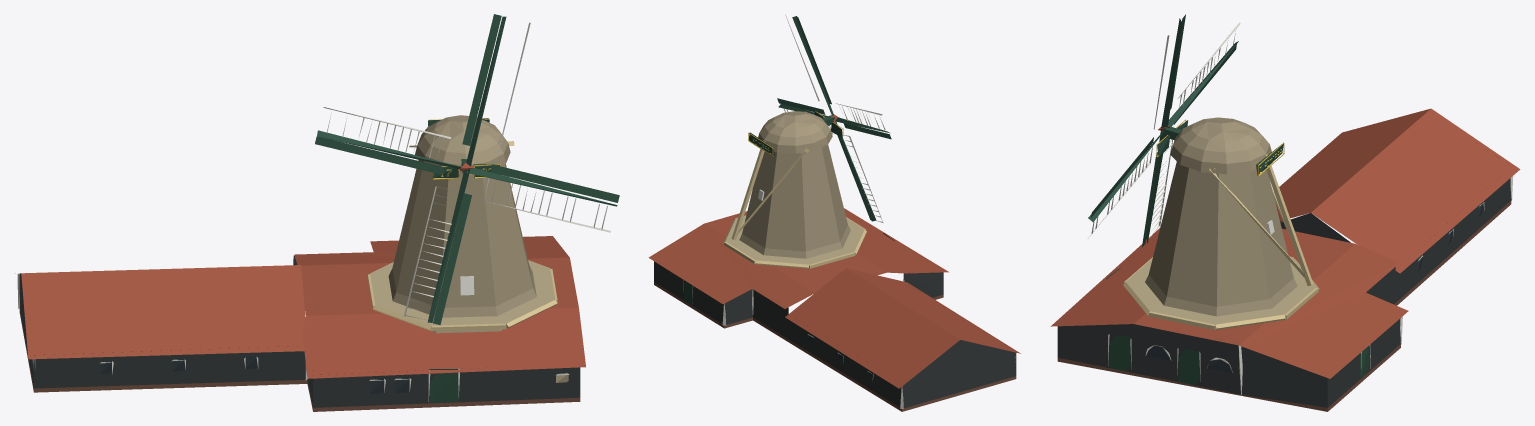
File: d-admiraal.lod1.glb
3 renders of one model, left to right at view 1: azimuth 30°, elevation 25°; view 2: azimuth 150°, elevation 25°; view 3: azimuth 270°, elevation 25°, orthographic. The views are drawn at different scales.
Parts seen in each view (by area): view 1: d-admiraal; view 2: d-admiraal; view 3: d-admiraal.
Boxes of the visible parts, bbox=[...] form: d-admiraal: bbox=[15, 14, 619, 411]; d-admiraal: bbox=[648, 14, 1020, 411]; d-admiraal: bbox=[1051, 14, 1520, 411].
Size of the model in its own units: 33.07 by 21.02 by 26.51.
